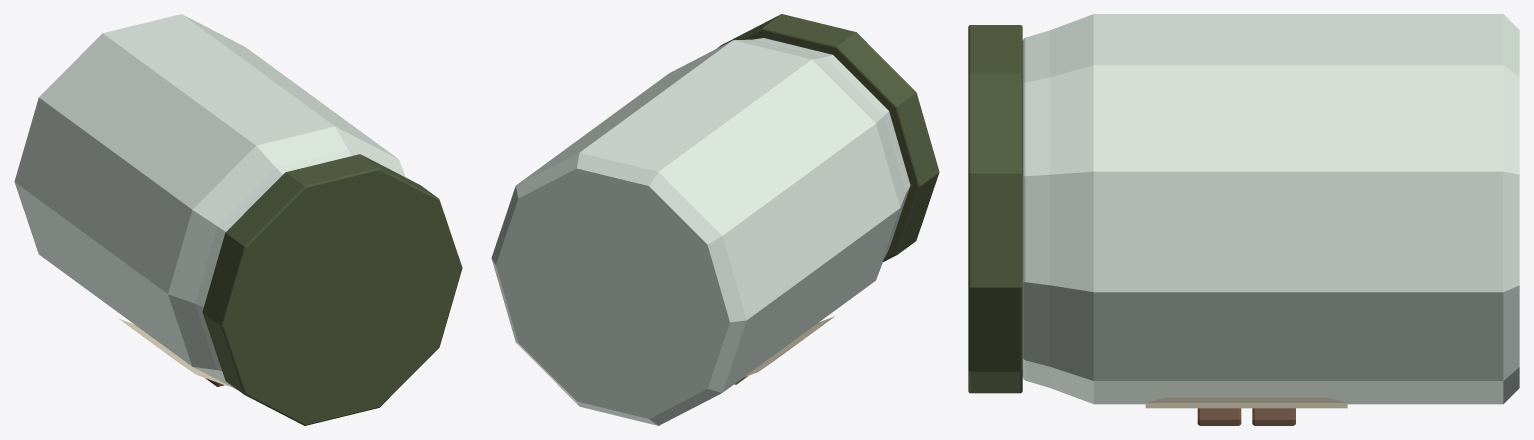
File: chocolate_spread.glb
3 renders of one model, left to right at view 1: azimuth 30°, elevation 25°; view 2: azimuth 150°, elevation 25°; view 3: azimuth 270°, elevation 25°, orthographic. The views are drawn at different scales.
Visible parts, largest first — view 1: chocolate_spread; view 2: chocolate_spread; view 3: chocolate_spread.
Part boxes in pixels (box(x1,y1,x2,y2)): chocolate_spread: box(14, 14, 462, 425); chocolate_spread: box(491, 14, 939, 425); chocolate_spread: box(968, 14, 1519, 425).
Bounding box in the file's own units: 0.072 × 0.073 × 0.101.
